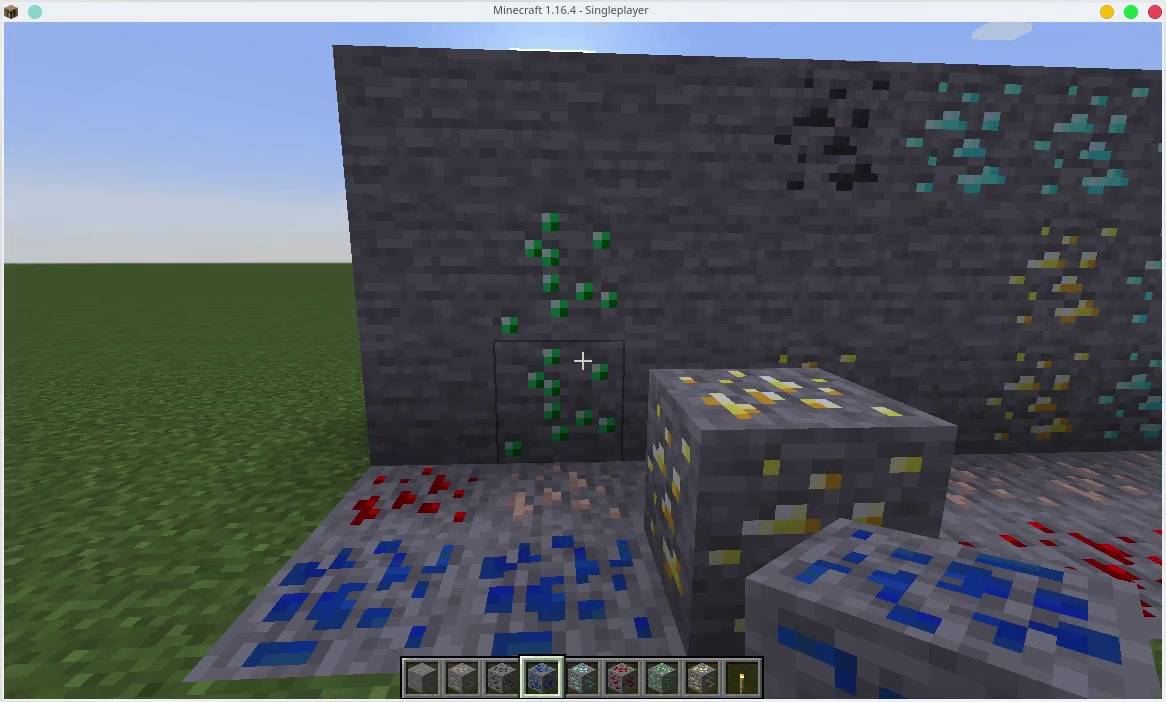gold: (648, 358, 935, 531), (1009, 219, 1118, 327), (978, 346, 1085, 446), (784, 349, 872, 382), (686, 660, 717, 697)
